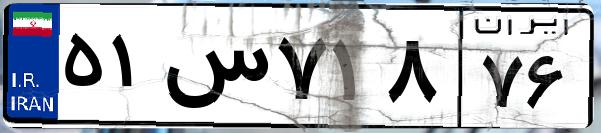1: (330, 28, 385, 110), (110, 28, 158, 98)
5: (57, 26, 110, 100)
6: (525, 38, 570, 115)
7: (270, 28, 330, 110), (475, 38, 525, 113)
8: (385, 28, 445, 110)
س: (158, 20, 270, 120)
